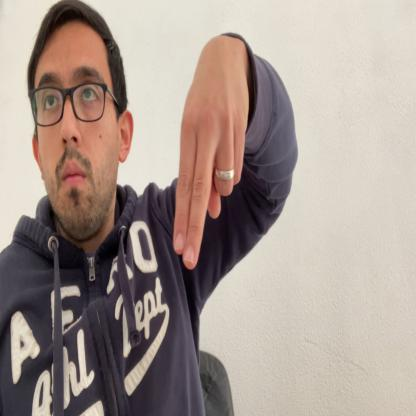N: (172, 36, 251, 271)
